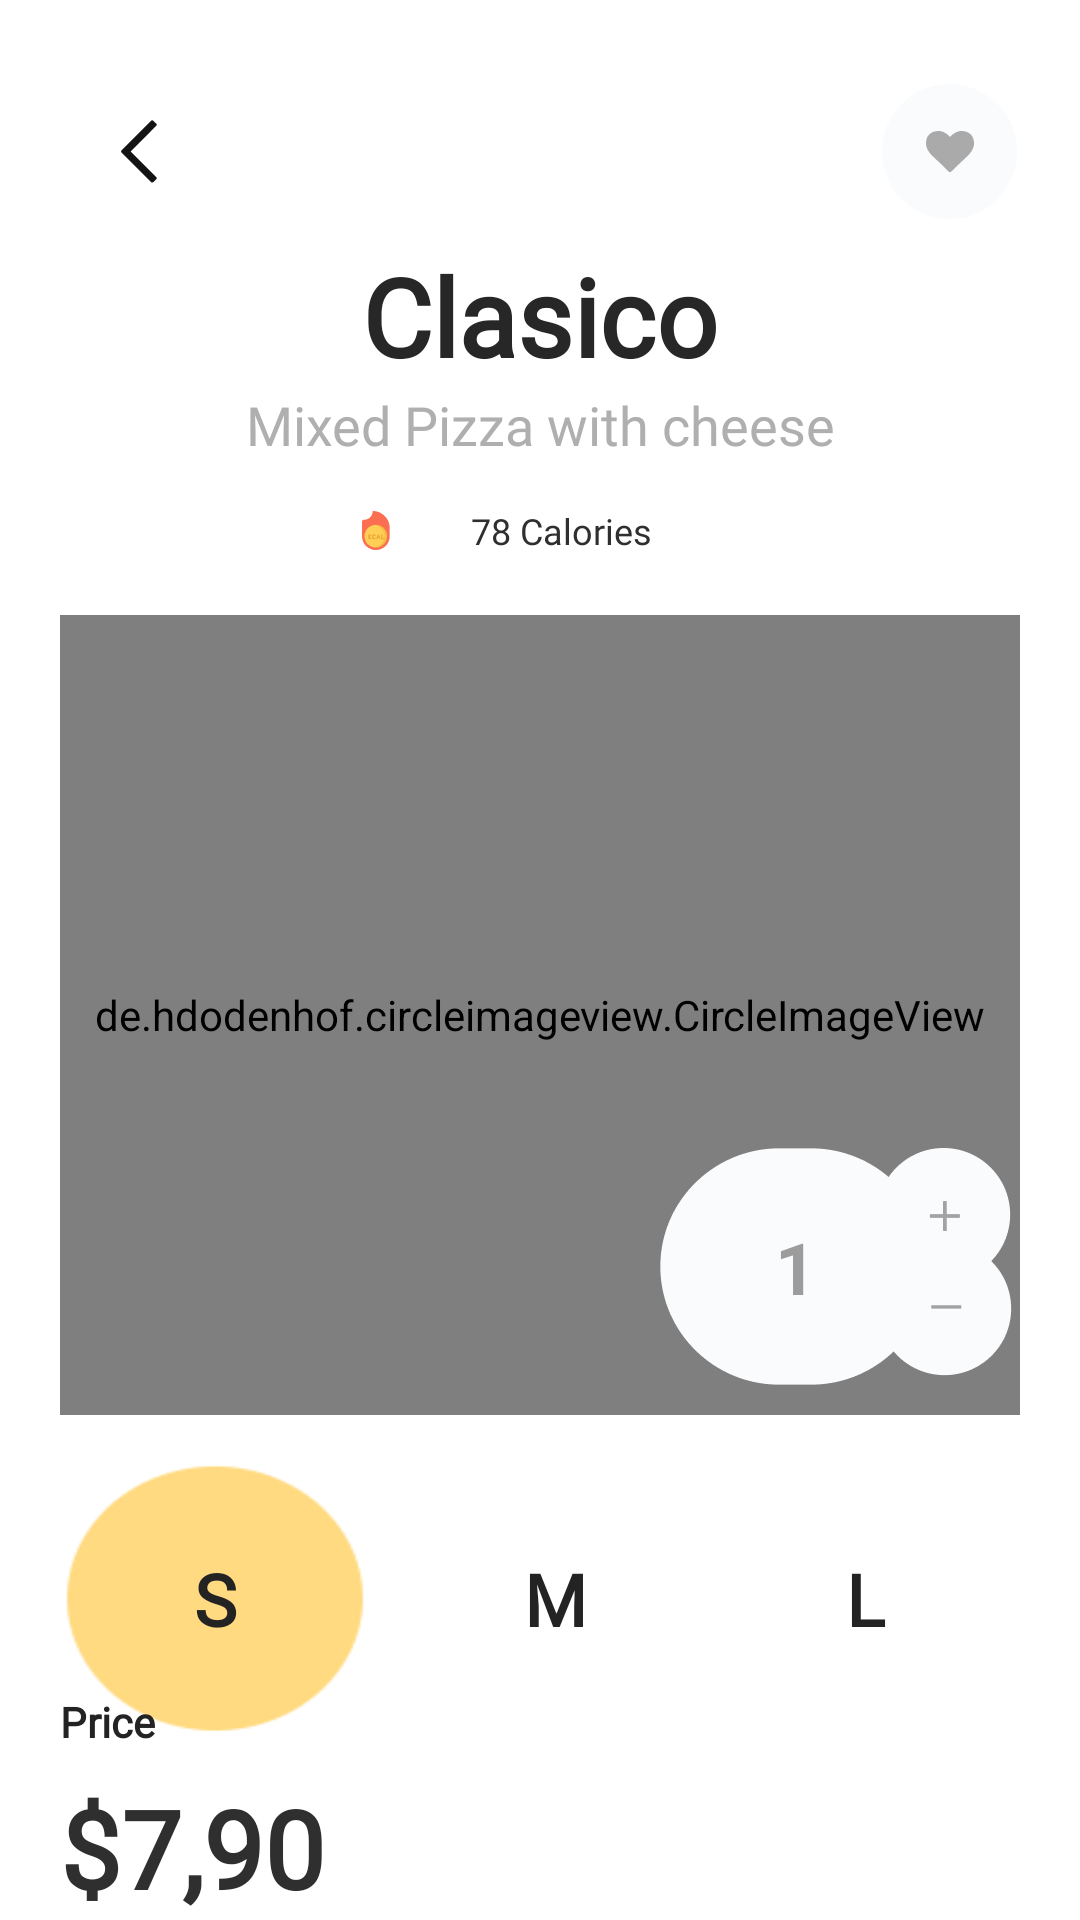

Screen size 1080 × 1920. Icon name, then its center in pixels as point (x, y):
back: point (139, 151)
cong: point (944, 1215)
tru: point (944, 1309)
